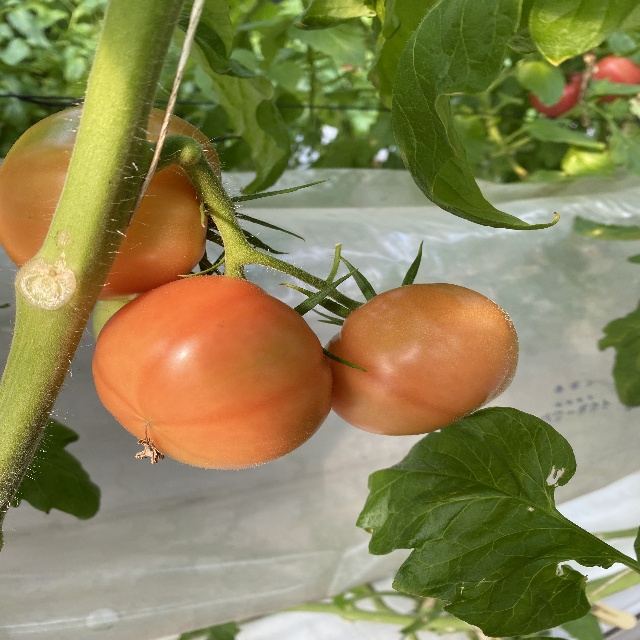b_half_ripened: (92, 275, 334, 470), (0, 103, 222, 302), (322, 282, 519, 437)
